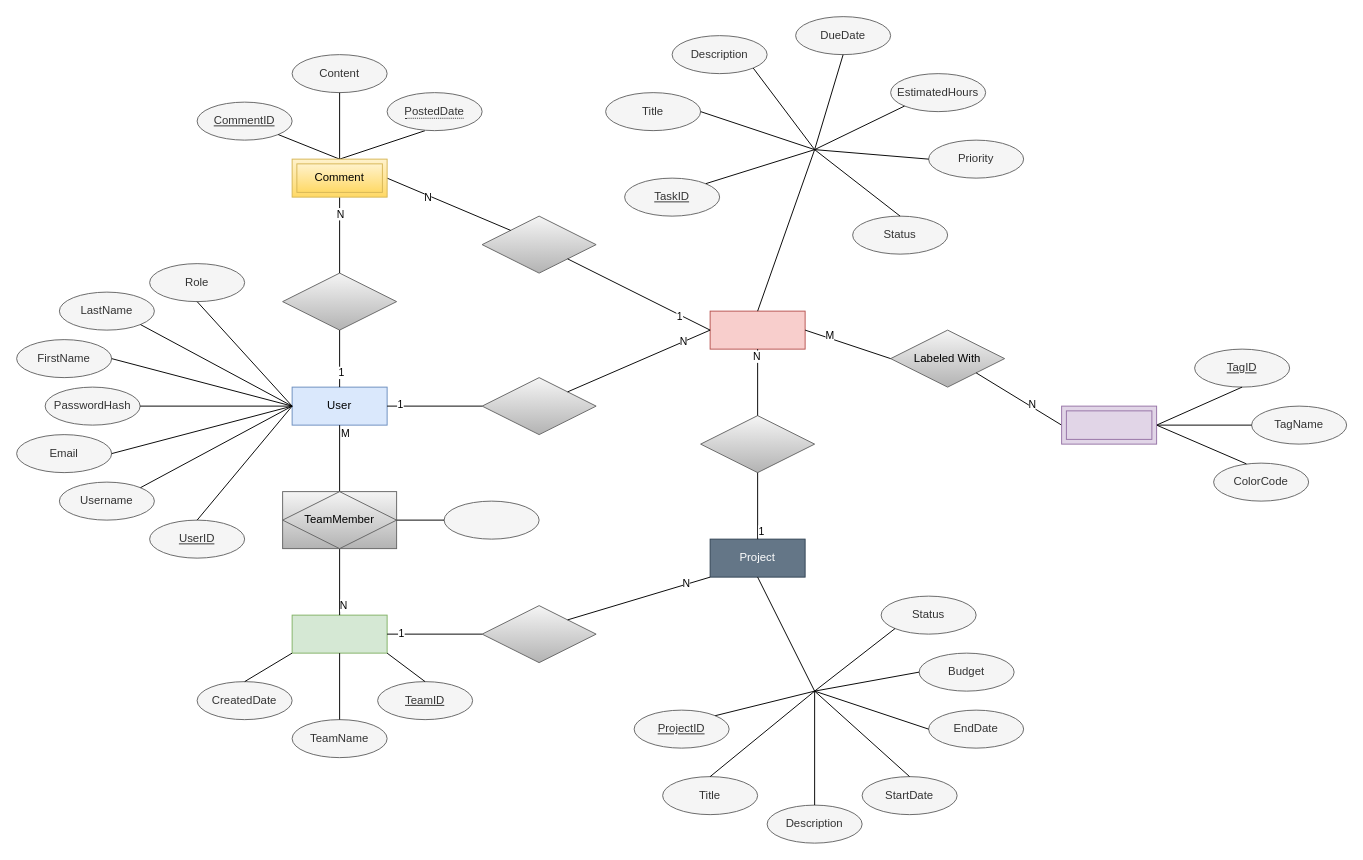
The diagram is 1363 pixels wide and 860 high, and some of its shapes have lost their labels. The box of each missing label's shape, as (x1, y1, x2, y2) in pixels:
Assigned To: (481, 377, 596, 435)
Contains: (700, 415, 815, 473)
Has: (481, 215, 596, 273)
JoinedDate: (443, 500, 539, 539)
Manages: (481, 605, 596, 663)
Tag: (1061, 405, 1157, 444)
Task: (709, 310, 805, 349)
Team: (291, 614, 387, 653)
Writes: (282, 272, 397, 330)
